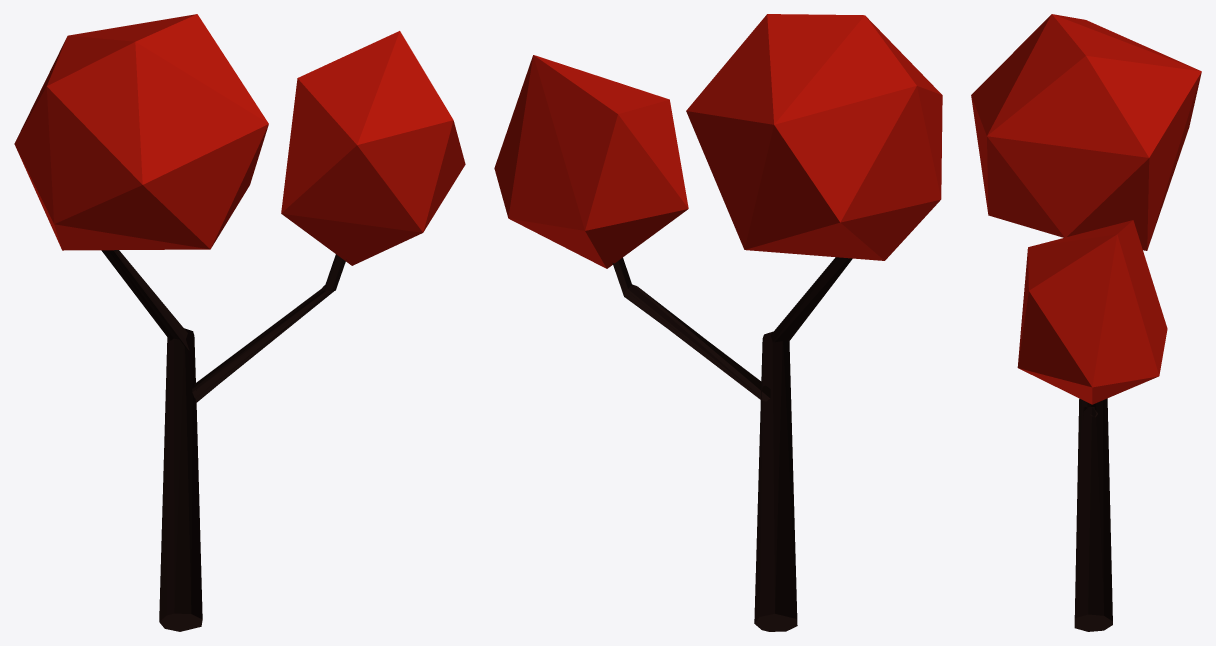
Rendered from autumntree_2.obj.
3 renders of one model, left to right at view 1: azimuth 30°, elevation 25°; view 2: azimuth 150°, elevation 25°; view 3: azimuth 270°, elevation 25°, orthographic. The views are drawn at different scales.
Visible parts, largest first — view 1: Cylinder.000; view 2: Cylinder.000; view 3: Cylinder.000.
Boxes of the visible parts, box(x1,y1,x2,y2) form: Cylinder.000: box(14, 14, 465, 631); Cylinder.000: box(494, 14, 942, 631); Cylinder.000: box(971, 14, 1201, 631).
Size of the model in its own units: 2.29 by 3.11 by 1.13.
